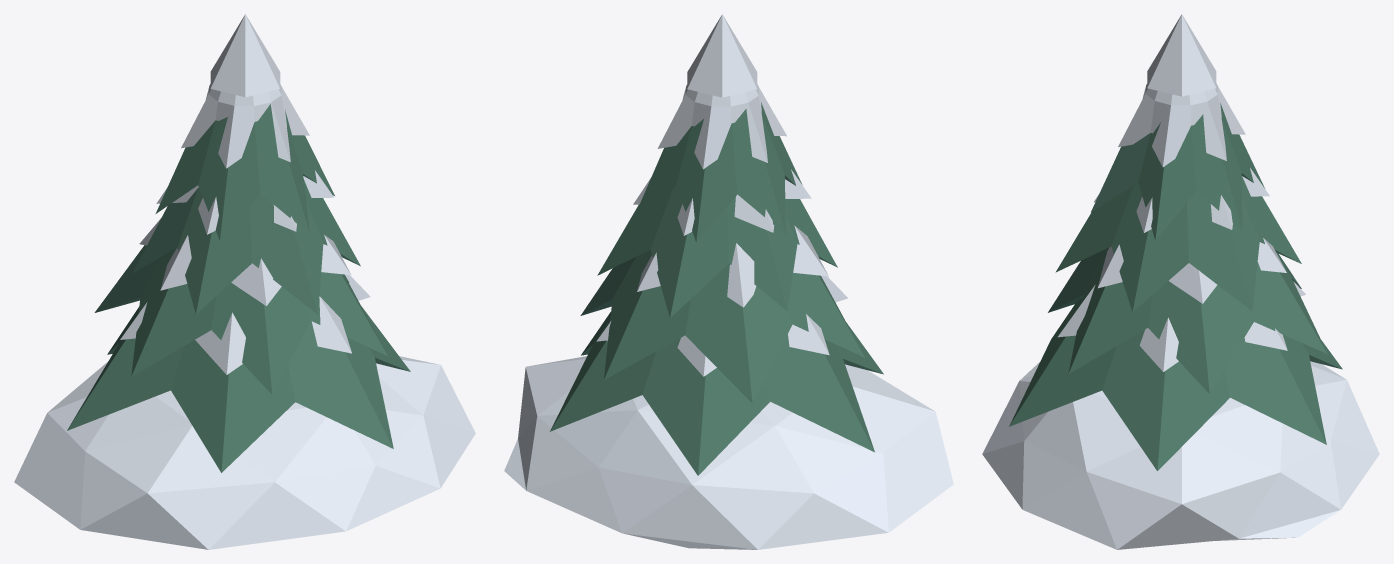
File: TREE_FIR_YOUNG.glb
3 views of the same model, side by side, from view 1: azimuth 30°, elevation 25°; view 2: azimuth 150°, elevation 25°; view 3: azimuth 270°, elevation 25° (orthographic).
Visible parts, largest first — view 1: TREE_FIR_YOUNG; view 2: TREE_FIR_YOUNG; view 3: TREE_FIR_YOUNG.
Boxes of the visible parts, <box> form: TREE_FIR_YOUNG: <box>14,14,475,549</box>; TREE_FIR_YOUNG: <box>504,14,953,549</box>; TREE_FIR_YOUNG: <box>982,14,1379,549</box>.
Size of the model in its own units: 2.5 by 2.78 by 2.19.
